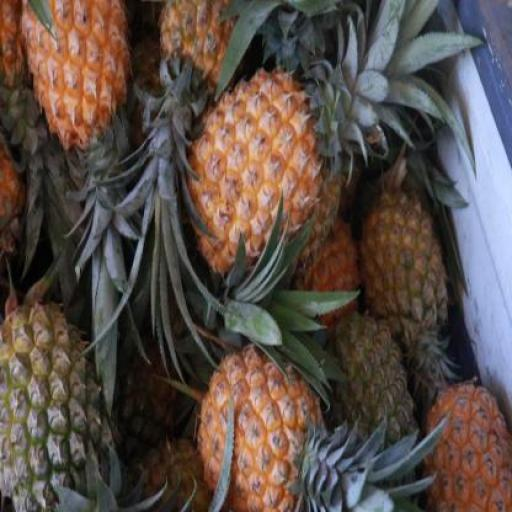------------------------------: (0, 300, 114, 511), (359, 175, 446, 347)
Pineapple - v8 v1: (190, 73, 338, 283), (197, 346, 317, 511), (22, 0, 128, 150), (424, 378, 510, 512)
